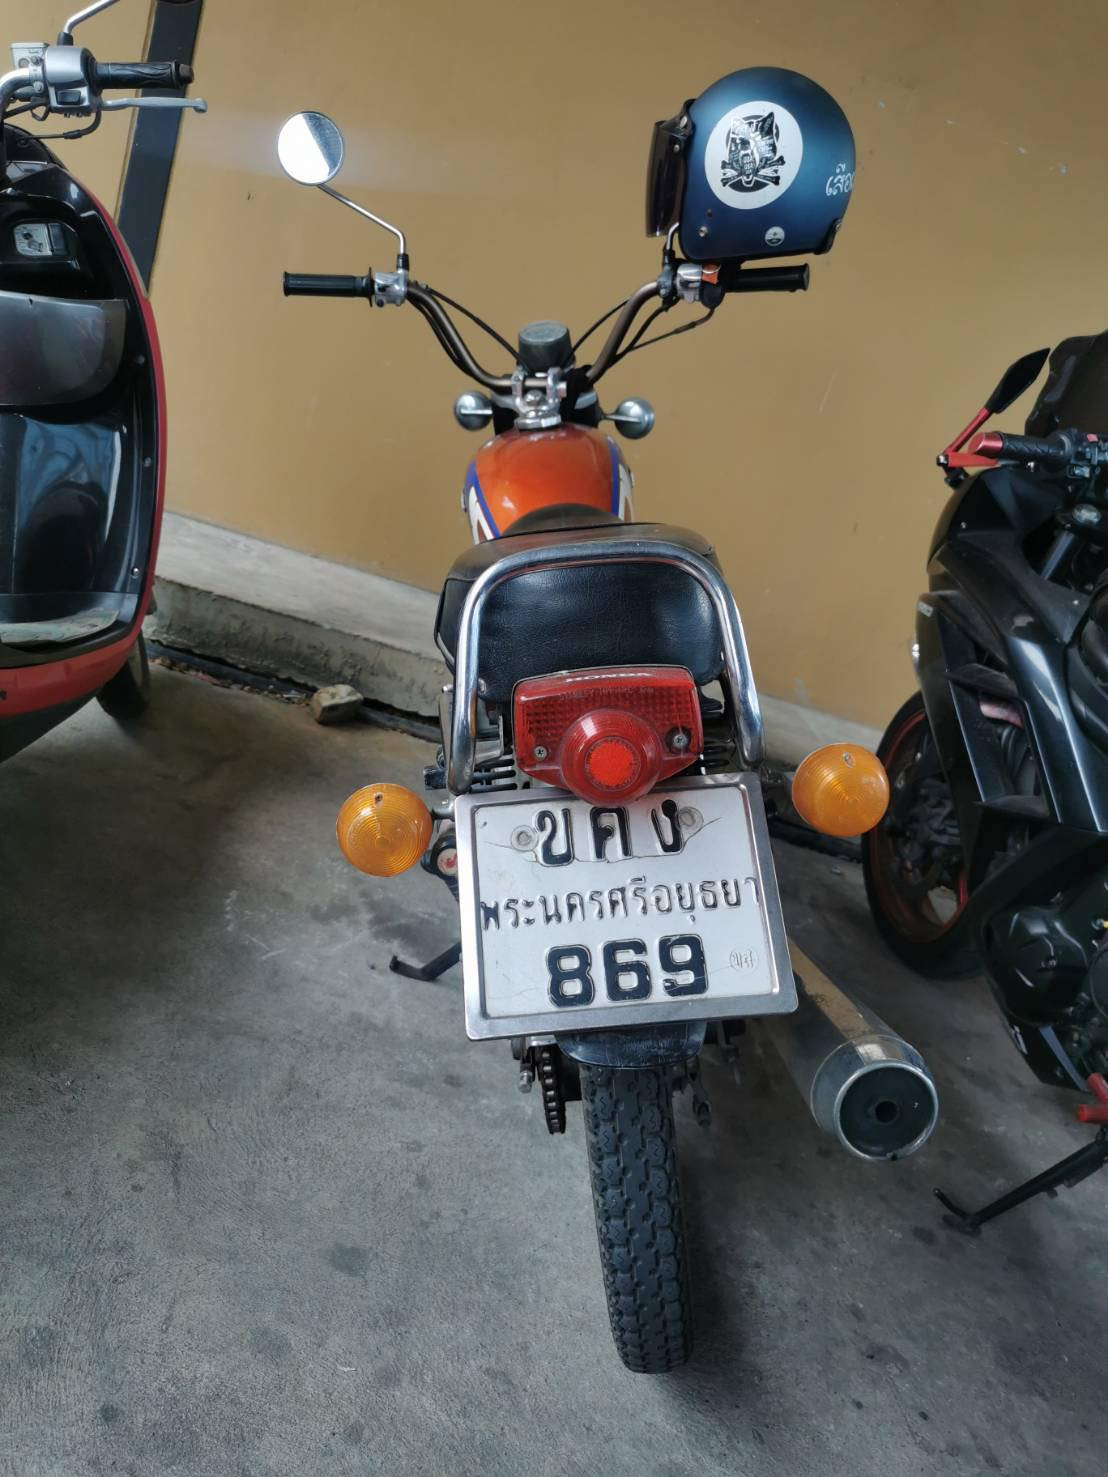line1: (523, 795, 695, 869)
line2: (468, 869, 777, 933)
line3: (527, 929, 723, 1020)
